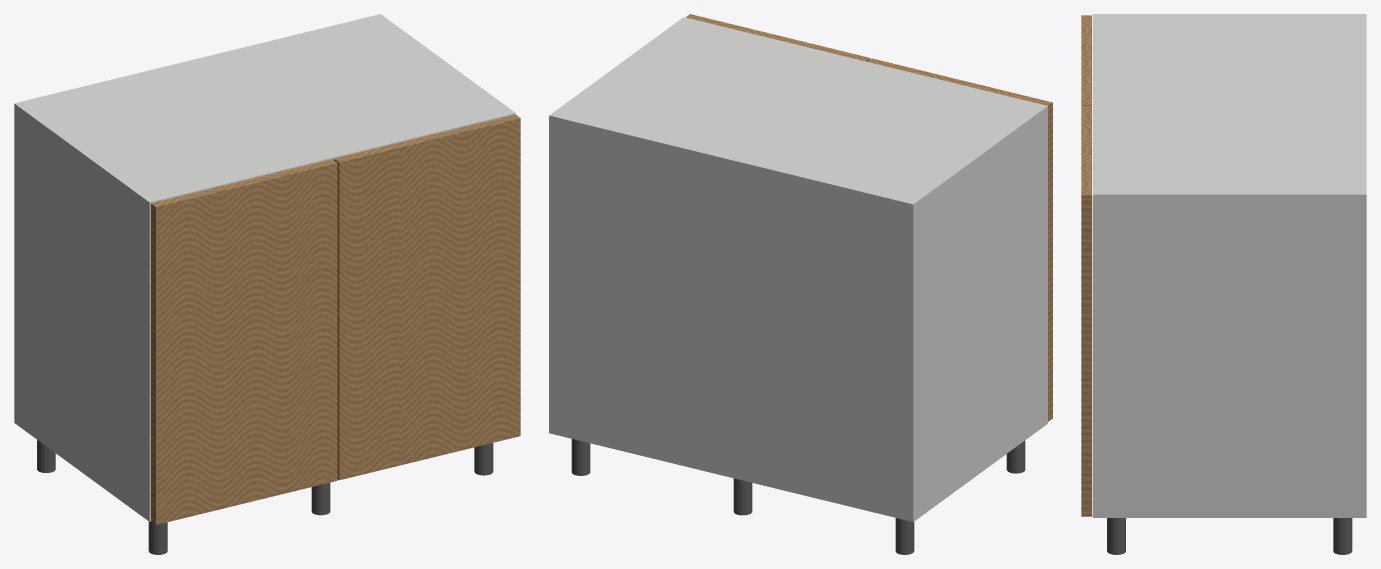
Rendered from w900_inset_pair_closed.glb.
The picture shows the model from 3 angles, left to right: view 1: azimuth 30°, elevation 25°; view 2: azimuth 150°, elevation 25°; view 3: azimuth 270°, elevation 25°; orthographic projection.
Parts seen in each view (by area): view 1: oak, white, leg; view 2: white, oak, leg; view 3: white, oak, leg.
Boxes of the visible parts, bbox=[...] form: oak: bbox=[151, 114, 520, 524]; white: bbox=[14, 14, 515, 521]; leg: bbox=[37, 440, 493, 554]; white: bbox=[549, 17, 1047, 521]; oak: bbox=[686, 14, 1052, 421]; leg: bbox=[571, 439, 1025, 554]; white: bbox=[1092, 14, 1366, 517]; oak: bbox=[1081, 15, 1091, 516]; leg: bbox=[1107, 518, 1352, 554].
Bounding box in the file's own units: 0.9 × 0.85 × 0.6.
Materials: 3 (1 with a texture image).
